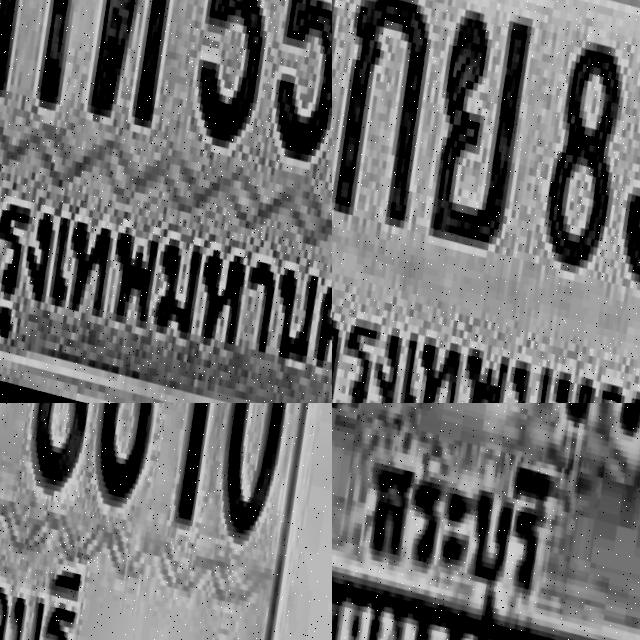license-plate: (0, 0, 332, 403), (332, 0, 640, 403), (0, 403, 332, 640), (332, 403, 640, 640)
